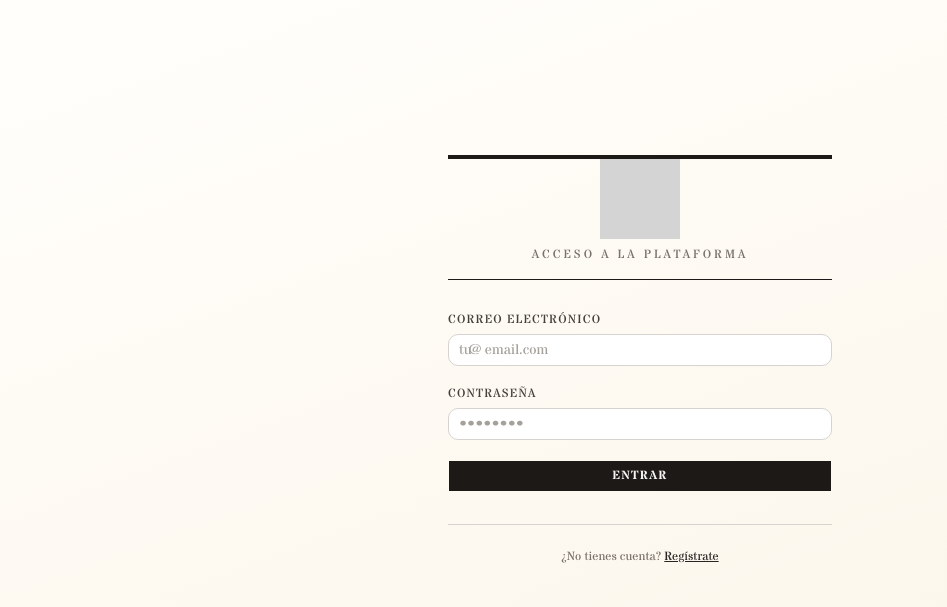
Scenario: Login › shows API error message when login fails
Type "bad@test.com" into the field with placeholder "tu@email.com" at (640, 350), box [448,334,832,366]
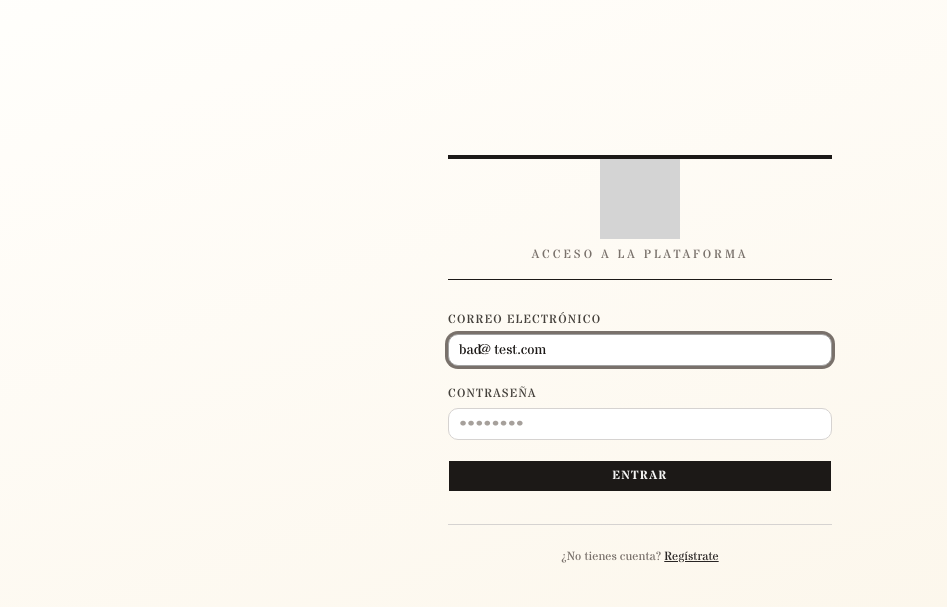
Type "wrongpass" into the password field with placeholder "••••••••" at (640, 424), box [448,408,832,440]
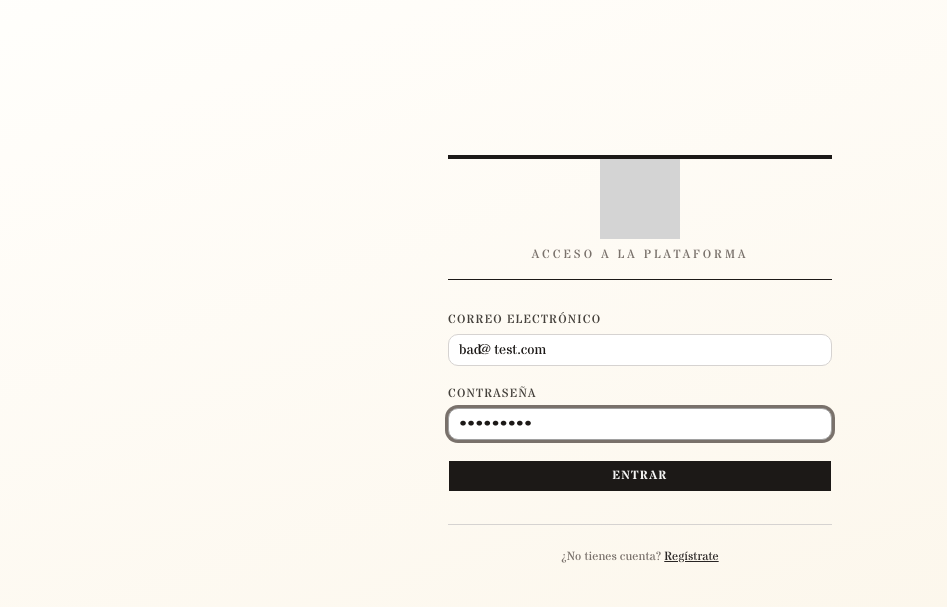
Click the button "Entrar" at (640, 476), box [448,460,832,492]
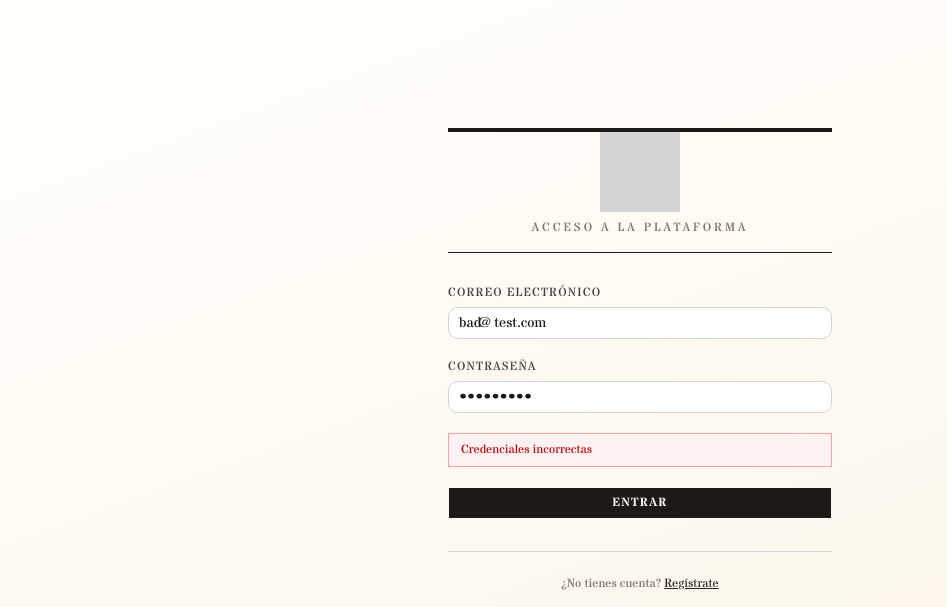
Now the text "Credenciales incorrectas" is shown, box [448,433,832,467]
